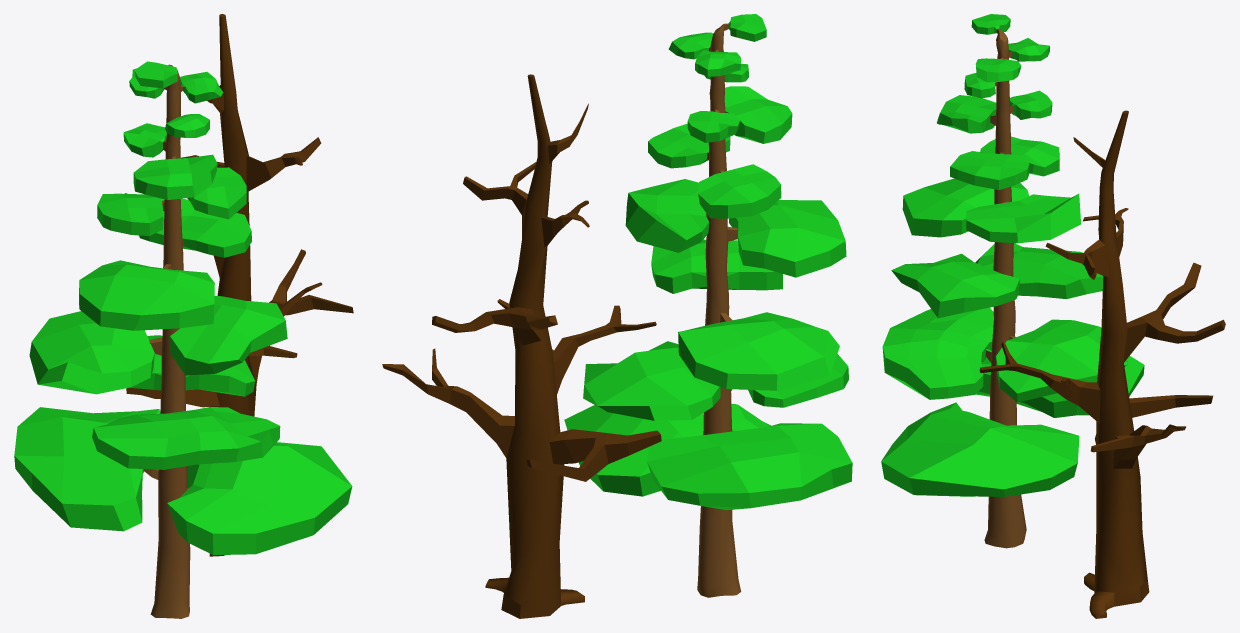
The model's file is baum_d005.FBX.
3 views of the same model, side by side, from view 1: azimuth 30°, elevation 25°; view 2: azimuth 150°, elevation 25°; view 3: azimuth 270°, elevation 25° (orthographic). The views are drawn at different scales.
Visible parts, largest first — view 1: Baum_D005; view 2: Baum_D005; view 3: Baum_D005.
Part boxes in pixels (x1=…): Baum_D005: x1=14, y1=14, x2=353, y2=618; Baum_D005: x1=382, y1=14, x2=852, y2=618; Baum_D005: x1=881, y1=14, x2=1225, y2=618.
Size of the model in its own units: 38.83 by 57.59 by 35.14.
